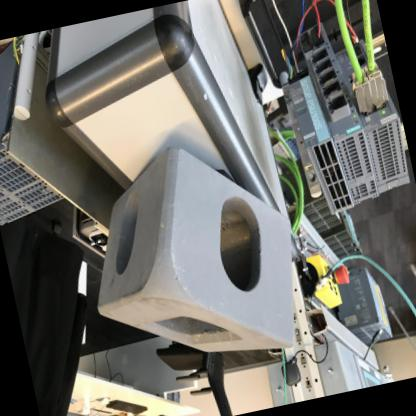CornerCasting: (64, 117, 318, 391)
